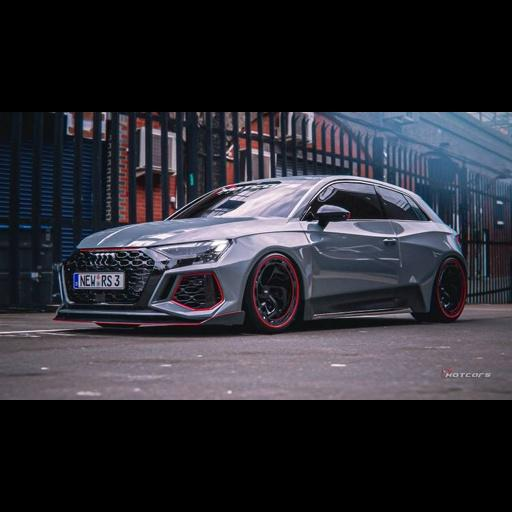hatchback: (57, 176, 467, 332)
